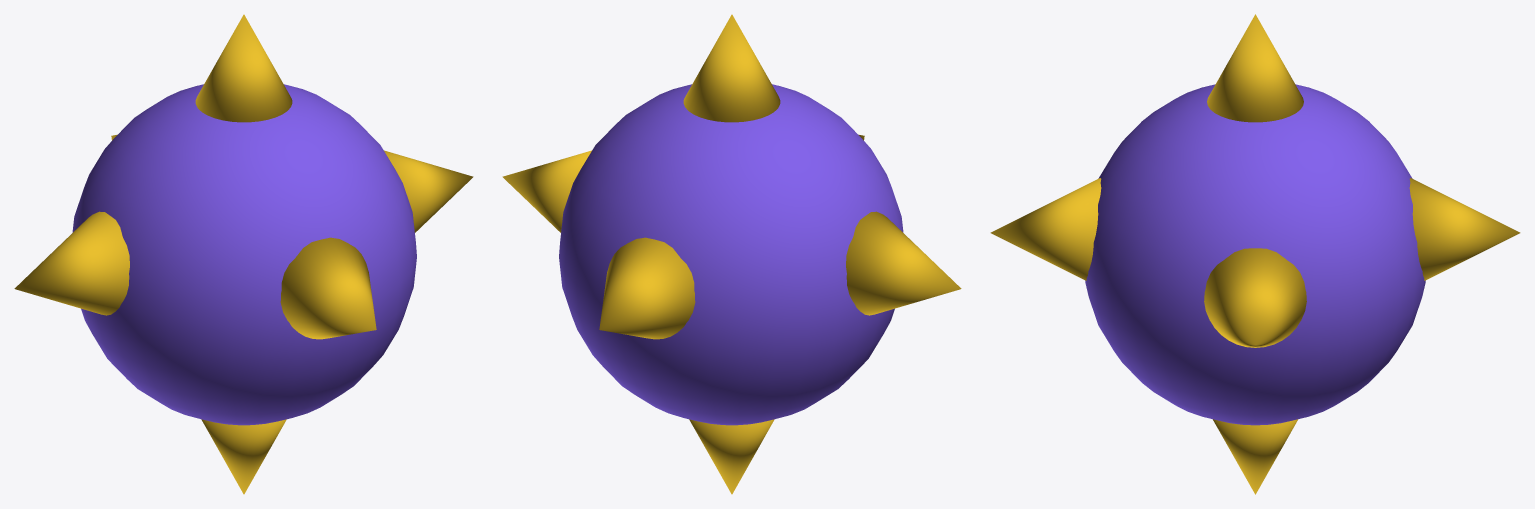
The model's file is Spikey.glb.
The picture shows the model from 3 angles, left to right: view 1: azimuth 30°, elevation 25°; view 2: azimuth 150°, elevation 25°; view 3: azimuth 270°, elevation 25°; orthographic projection.
Parts seen in each view (by area): view 1: Sphere; view 2: Sphere; view 3: Sphere.
Boxes of the visible parts, box(x1,y1,x2,y2) form: Sphere: box(14, 14, 473, 494); Sphere: box(502, 14, 961, 494); Sphere: box(990, 14, 1520, 494).
Size of the model in its own units: 3.06 by 3.06 by 3.06.
